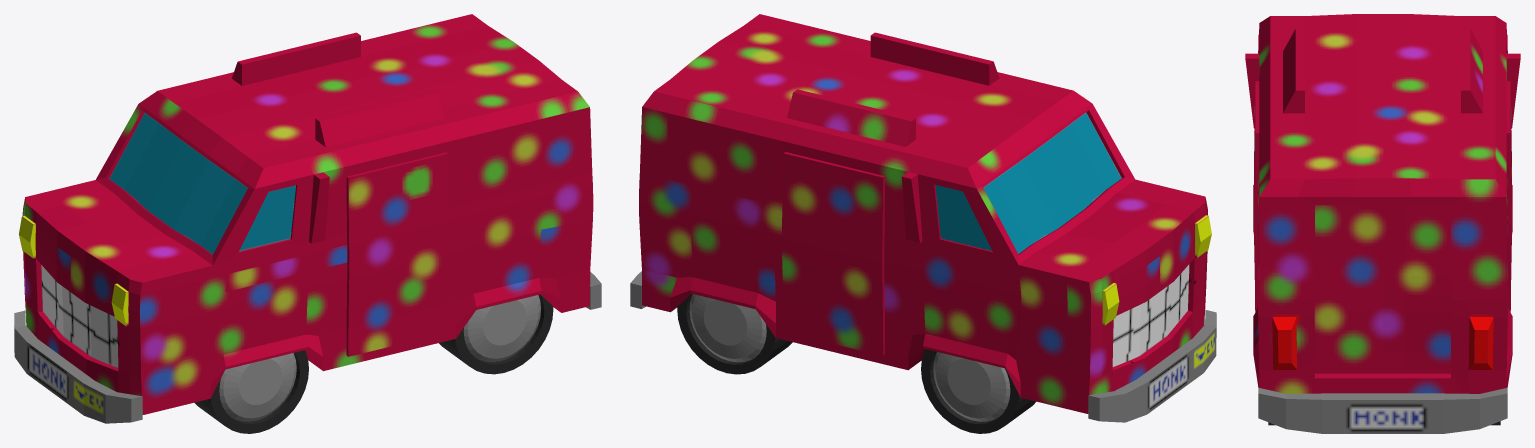
Rendered from cds.fbx.
3 renders of one model, left to right at view 1: azimuth 30°, elevation 25°; view 2: azimuth 150°, elevation 25°; view 3: azimuth 270°, elevation 25°, orthographic. The views are drawn at different scales.
Visible parts, largest first — view 1: frame_Cube, tire2_Cylinder.004, tire1_Cylinder, fromy_bumper_Cube.001; view 2: frame_Cube, tire4_Cylinder.006, tire3_Cylinder.005, fromy_bumper_Cube.001; view 3: frame_Cube, Rear_bumper_Cube.002.
Part boxes in pixels (left/top/right/bottom): frame_Cube: left=19, top=14, right=593, bottom=414; tire2_Cylinder.004: left=194, top=350, right=308, bottom=433; tire1_Cylinder: left=439, top=294, right=553, bottom=374; fromy_bumper_Cube.001: left=14, top=310, right=142, bottom=423; frame_Cube: left=639, top=14, right=1211, bottom=413; tire4_Cylinder.006: left=921, top=349, right=1035, bottom=433; tire3_Cylinder.005: left=677, top=293, right=792, bottom=374; fromy_bumper_Cube.001: left=1088, top=310, right=1216, bottom=422; frame_Cube: left=1245, top=14, right=1520, bottom=393; Rear_bumper_Cube.002: left=1258, top=387, right=1507, bottom=433.
Size of the model in its own units: 1003 by 549 by 454.
3 materials, 3 textured.
